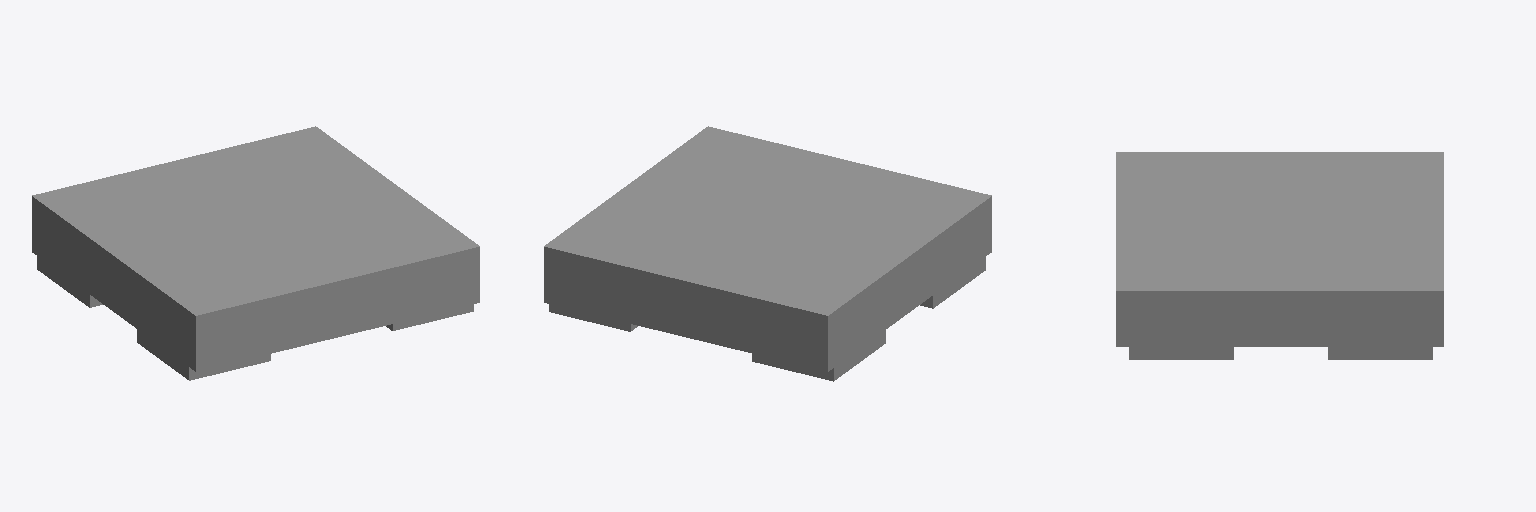
The model's file is ztisch.obj.
3 renders of one model, left to right at view 1: azimuth 30°, elevation 25°; view 2: azimuth 150°, elevation 25°; view 3: azimuth 270°, elevation 25°, orthographic.
Visible parts, largest first — view 1: ztisch_tisch-z; view 2: ztisch_tisch-z; view 3: ztisch_tisch-z.
Part boxes in pixels (x1,y1,x2,y2): ztisch_tisch-z: (32,126,479,380); ztisch_tisch-z: (544,126,991,381); ztisch_tisch-z: (1116,152,1443,359).
Size of the model in its own units: 175 by 41 by 175.